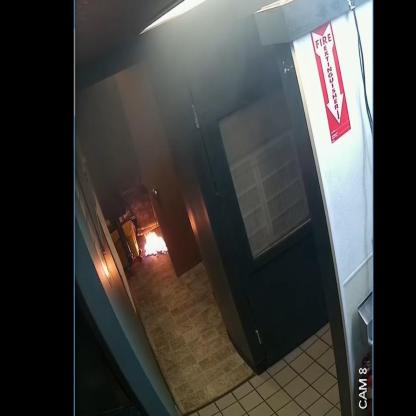fire: (144, 231, 168, 256)
